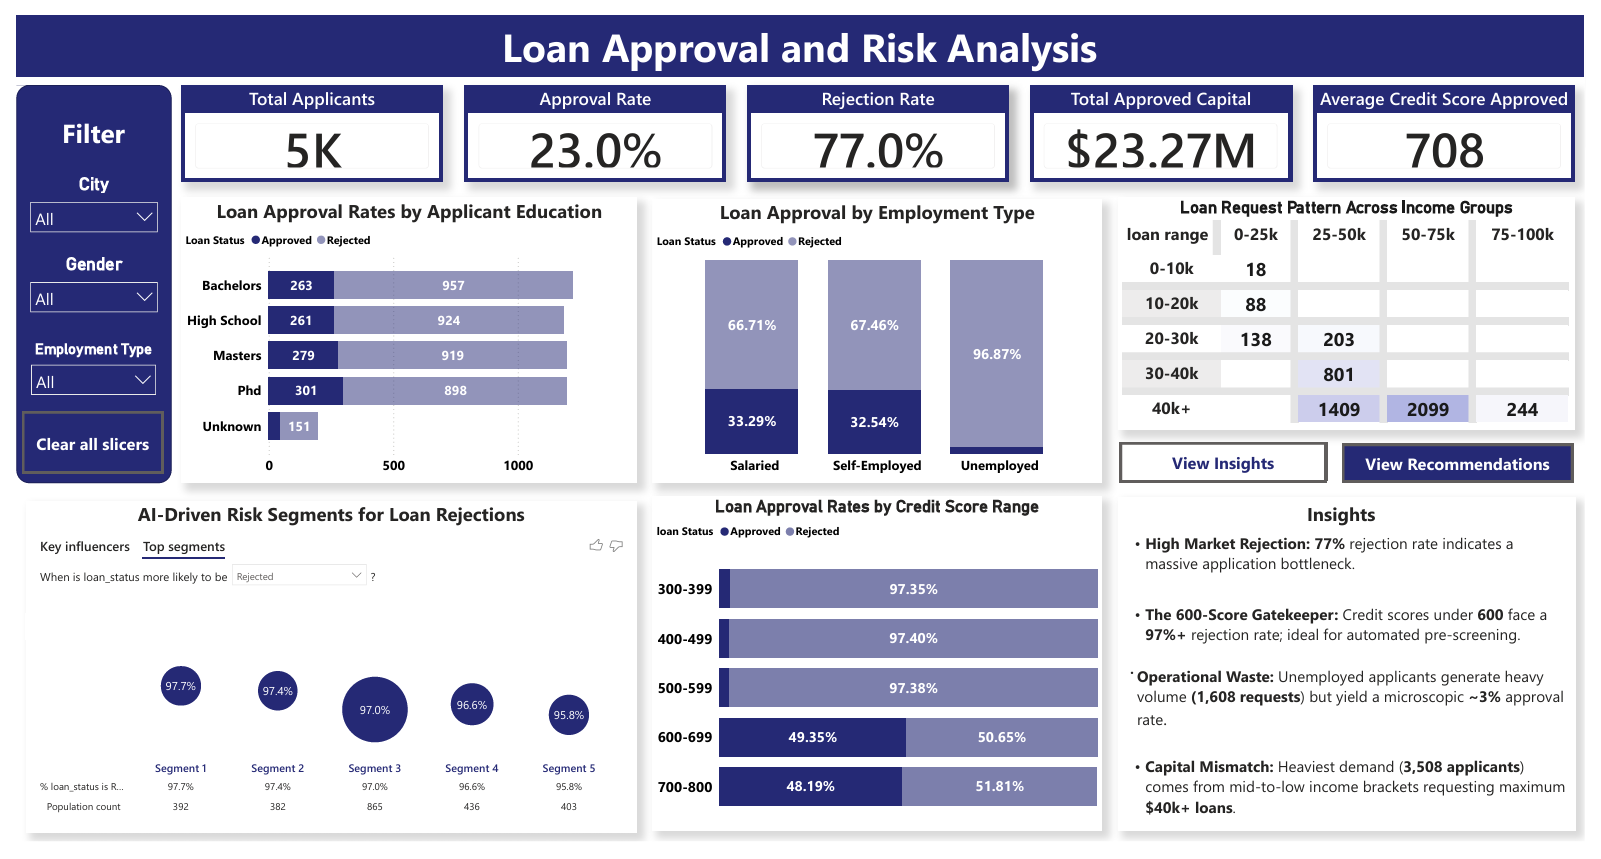

The page's visual inventory and layout, read from the dashboard file:
{"tool":"powerbi","page":{"name":"Page 1","canvas":[1920,1010],"ordinal":0},"visuals":[{"type":"hundredPercentStackedColumnChart","title":"Loan Approval by Employment Type","fields":{"Category":["public loan_risk_data_cleaned.employment_type"],"Series":["public loan_risk_data_cleaned.loan_status"],"Y":["public loan_risk_data_cleaned.Total Applicants"]},"box":[779.5,224.9,549.7,347.5],"z":0},{"type":"actionButton","title":"View insights","box":[1355.2,522.7,250.7,46.8],"z":0,"group":"g1"},{"type":"actionButton","title":"View Recommendations","box":[1622.9,524.4,283.3,47.3],"z":0,"group":"g2"},{"type":"textbox","title":"Insights","box":[1348.6,588.8,560.3,408.4],"z":0,"group":"g3"},{"type":"cardVisual","title":"Total Applicants","fields":{"Data":["public loan_risk_data_cleaned.Total Applicants"]},"box":[202.2,86.3,320.3,118.1],"z":1000},{"type":"actionButton","title":"View Insights Highlight","box":[1351.5,522.4,253.5,49],"z":1000,"group":"g1"},{"type":"textbox","box":[1348.6,626.8,558,77],"z":1000,"group":"g3"},{"type":"cardVisual","title":"Total Approved Capital","fields":{"Data":["public loan_risk_data_cleaned.Total Approved Capital"]},"box":[1241.3,86.3,320.3,118.1],"z":2000},{"type":"textbox","box":[1348.6,713.7,558,66.5],"z":2000,"group":"g3"},{"type":"cardVisual","title":"Approval Rate","fields":{"Data":["public loan_risk_data_cleaned.Approval rate"]},"box":[548.5,86.3,320.3,118.1],"z":3000},{"type":"textbox","box":[1348.6,790.2,558,99.7],"z":3000,"group":"g3"},{"type":"cardVisual","title":"Average Credit Score Approved","fields":{"Data":["public loan_risk_data_cleaned.Avg Credit Score Approved"]},"box":[1587.7,86.3,320.3,118.1],"z":4000},{"type":"textbox","box":[1348.6,899.8,558,97.3],"z":4000,"group":"g3"},{"type":"textbox","box":[0,0,1908.9,76],"z":5000},{"type":"keyDriversVisual","title":"AI-Driven Risk Segments for Loan Rejections","fields":{"ExplainBy":["public loan_risk_data_cleaned.education","Sum(public loan_risk_data_cleaned.yearsexperience)","Sum(public loan_risk_data_cleaned.income)","public loan_risk_data_cleaned.employment_type"],"Target":["public loan_risk_data_cleaned.loan_status"]},"box":[11.9,593.6,747.9,406],"z":6000,"group":"g5"},{"type":"barChart","title":"Loan Approval Rates by Applicant Education","fields":{"Category":["public loan_risk_data_cleaned.education"],"Series":["public loan_risk_data_cleaned.loan_approved"],"Y":["public loan_risk_data_cleaned.Total Applicants"]},"box":[202.2,222.6,558,349.8],"z":7000},{"type":"shape","box":[0,85.5,189.9,486.7],"z":8000},{"type":"slicer","title":"Gender","fields":{"Values":["public loan_risk_data_cleaned.gender"]},"box":[6.8,291.2,175.7,85.5],"z":9000},{"type":"slicer","title":"Employment Type","fields":{"Values":["public loan_risk_data_cleaned.employment_type"]},"box":[8,396.5,173.3,76],"z":10000},{"type":"slicer","title":"City","fields":{"Values":["public loan_risk_data_cleaned.city"]},"box":[6.8,193.1,175.7,78.4],"z":11000},{"type":"cardVisual","title":"Rejection Rate","fields":{"Data":["public loan_risk_data_cleaned.Rejection Rate"]},"box":[894.9,86.3,320.3,118.1],"z":12000},{"type":"textbox","box":[9.2,116.3,171,57],"z":13000},{"type":"actionButton","title":"Clear all slicers","box":[7.1,484.4,173.3,76],"z":14000},{"type":"hundredPercentStackedBarChart","title":"Loan Approval Rates by Credit Score Range","fields":{"Category":["public loan_risk_data_cleaned.Credit Score Band"],"Series":["public loan_risk_data_cleaned.loan_status"],"Y":["public loan_risk_data_cleaned.Total Applicants"]},"box":[779.5,588.3,549.7,408.9],"z":15000},{"type":"pivotTable","title":"Loan Request Pattern Across Income Groups","fields":{"Rows":["public loan_risk_data_cleaned.loan range"],"Columns":["public loan_risk_data_cleaned.income range"],"Values":["public loan_risk_data_cleaned.Total Applicants"]},"box":[1349.2,222.6,558.8,283.9],"z":16000},{"type":"group","id":"g1","title":"Insights Group ","box":[1351.5,522.4,254.4,49],"z":17000},{"type":"group","id":"g2","title":"Recommend Group ","box":[1621.8,522.4,286.2,50],"z":18000},{"type":"group","id":"g3","title":"Group 1","box":[1348.6,588.8,560.3,408.4],"z":19000},{"type":"group","id":"g4","title":"Group 2","box":[1350.2,588.2,558.7,410.3],"z":20000},{"type":"shape","box":[11.4,731.4,747.3,31.8],"z":21000,"group":"g5"},{"type":"group","id":"g5","title":"Group 3","box":[11.4,593.6,748.4,406],"z":21001}]}

Visuals, with their boxes in screenshot pixels (x1, y1, x2, y2), scaled from the page's 1920x1010 canvas onto the 1601x859 screenshot:
"Loan Approval by Employment Type" hundredPercentStackedColumnChart: l=650, t=191, r=1108, b=487
"View insights" actionButton: l=1130, t=445, r=1339, b=484
"View Recommendations" actionButton: l=1353, t=446, r=1589, b=486
"Insights" textbox: l=1125, t=501, r=1592, b=848
"Total Applicants" cardVisual: l=169, t=73, r=436, b=174
"View Insights Highlight" actionButton: l=1127, t=444, r=1338, b=486
textbox: l=1125, t=533, r=1590, b=599
"Total Approved Capital" cardVisual: l=1035, t=73, r=1302, b=174
textbox: l=1125, t=607, r=1590, b=664
"Approval Rate" cardVisual: l=457, t=73, r=724, b=174
textbox: l=1125, t=672, r=1590, b=757
"Average Credit Score Approved" cardVisual: l=1324, t=73, r=1591, b=174
textbox: l=1125, t=765, r=1590, b=848
textbox: l=0, t=0, r=1592, b=65
"AI-Driven Risk Segments for Loan Rejections" keyDriversVisual: l=10, t=505, r=634, b=850
"Loan Approval Rates by Applicant Education" barChart: l=169, t=189, r=634, b=487
shape: l=0, t=73, r=158, b=487
"Gender" slicer: l=6, t=248, r=152, b=320
"Employment Type" slicer: l=7, t=337, r=151, b=402
"City" slicer: l=6, t=164, r=152, b=231
"Rejection Rate" cardVisual: l=746, t=73, r=1013, b=174
textbox: l=8, t=99, r=150, b=147
"Clear all slicers" actionButton: l=6, t=412, r=150, b=477
"Loan Approval Rates by Credit Score Range" hundredPercentStackedBarChart: l=650, t=500, r=1108, b=848
"Loan Request Pattern Across Income Groups" pivotTable: l=1125, t=189, r=1591, b=431
"Insights Group " group: l=1127, t=444, r=1339, b=486
"Recommend Group " group: l=1352, t=444, r=1591, b=487
"Group 1" group: l=1125, t=501, r=1592, b=848
"Group 2" group: l=1126, t=500, r=1592, b=849
shape: l=10, t=622, r=633, b=649
"Group 3" group: l=10, t=505, r=634, b=850
